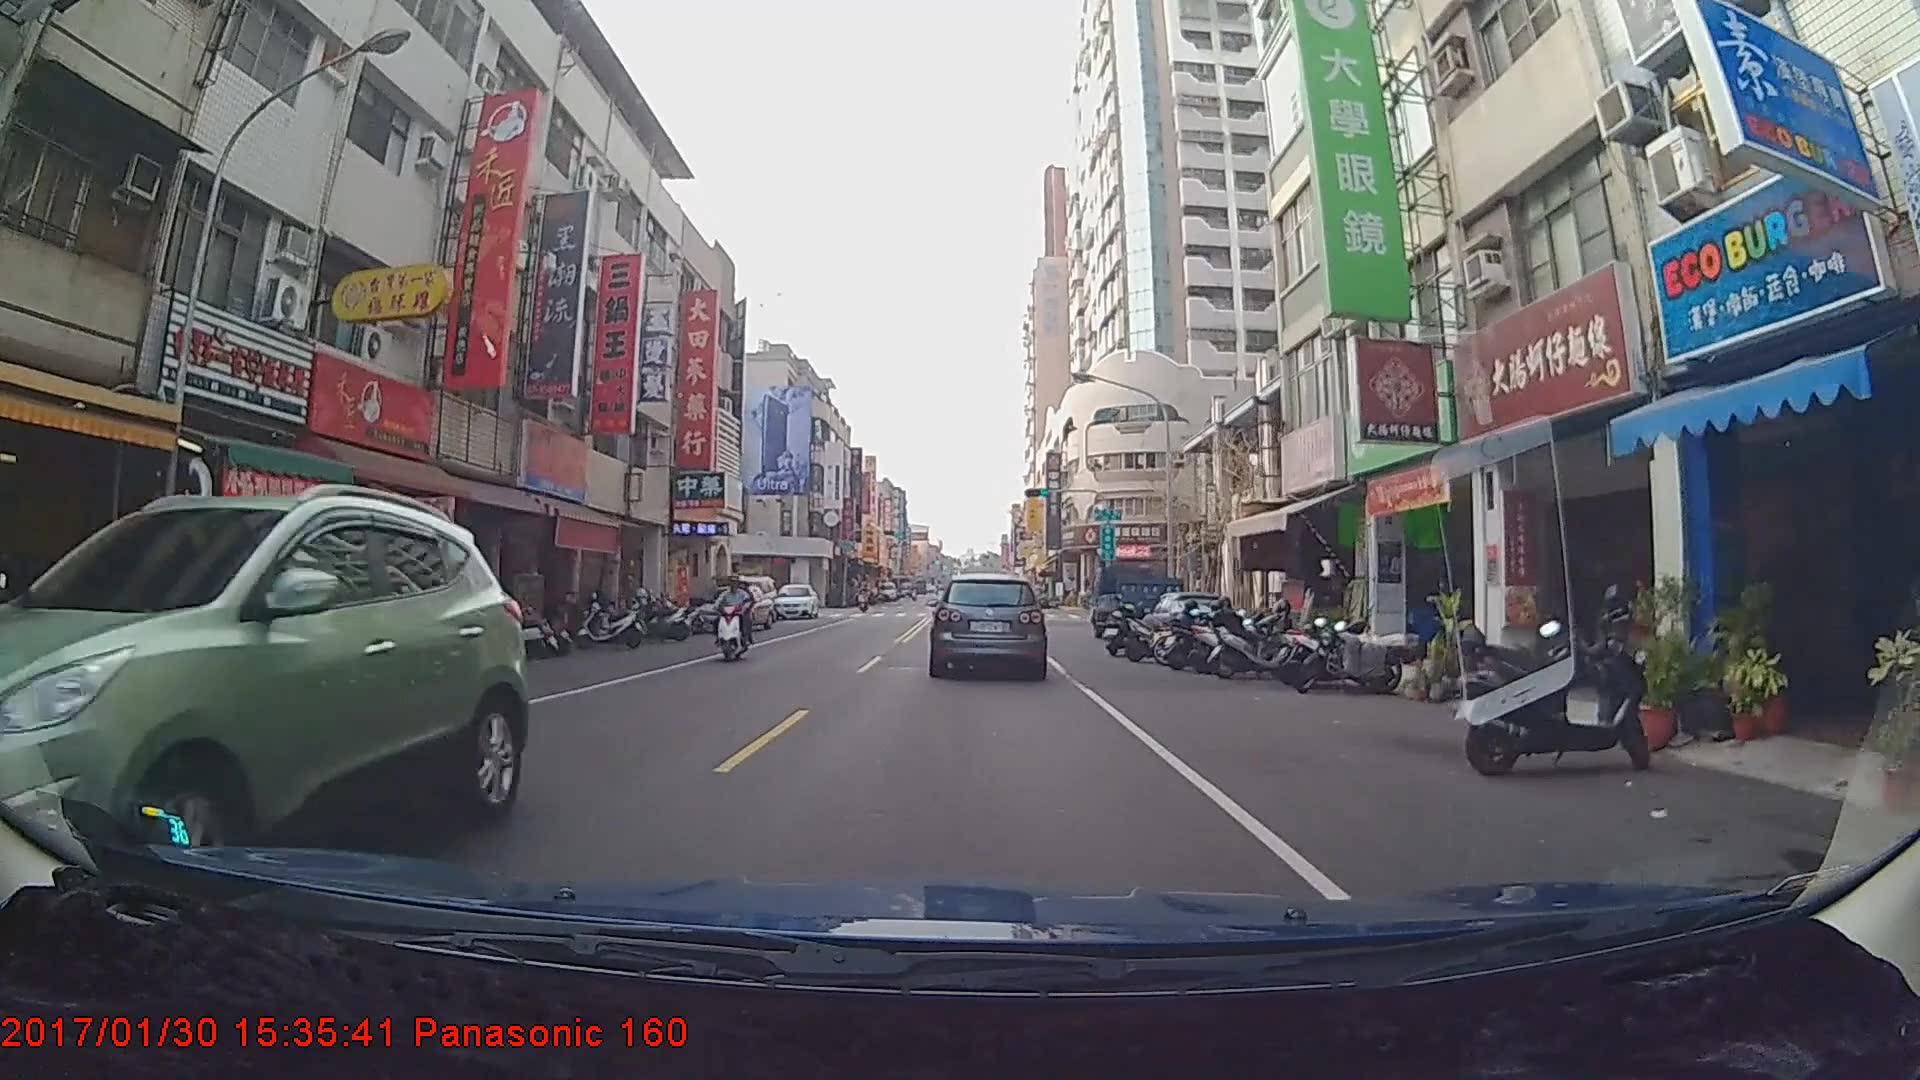rider: (710, 573, 762, 665)
vehicle: (0, 497, 530, 908), (931, 572, 1045, 677), (1088, 563, 1187, 642), (695, 584, 775, 634), (771, 584, 818, 623)
